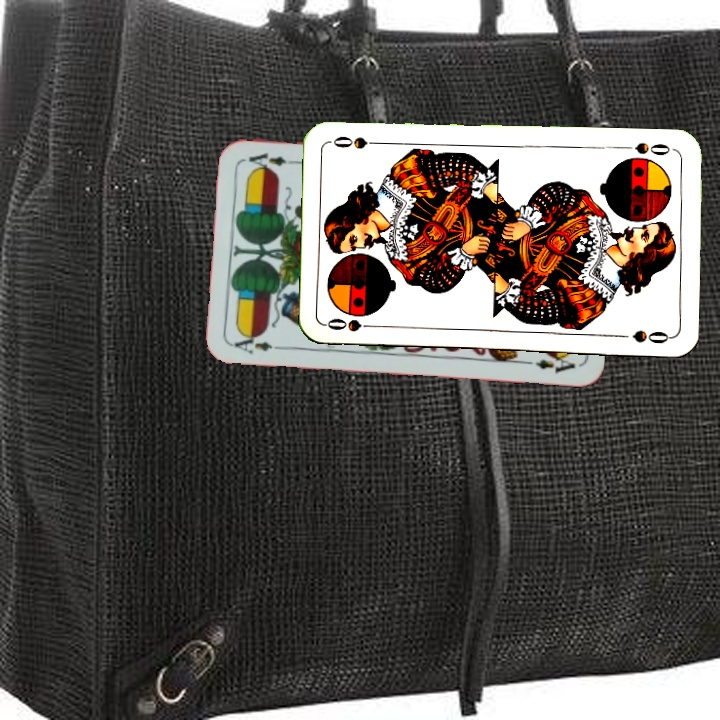EA: (231, 329, 289, 356)
SO: (323, 314, 382, 334), (631, 138, 677, 159)
